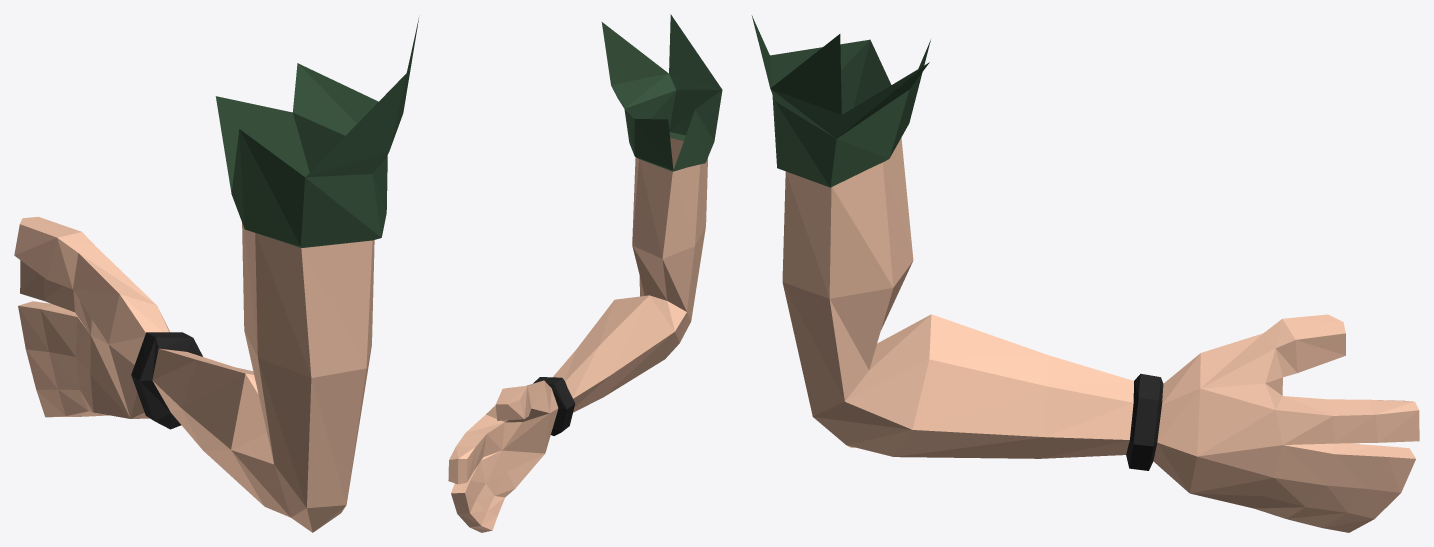
File: ShopKeeper_01_ArmR_82_01_A.obj
3 views of the same model, side by side, from view 1: azimuth 30°, elevation 25°; view 2: azimuth 150°, elevation 25°; view 3: azimuth 270°, elevation 25° (orthographic). The views are drawn at different scales.
Visible parts, largest first — view 1: ShopKeeper_01_ArmR_82_01_A; view 2: ShopKeeper_01_ArmR_82_01_A; view 3: ShopKeeper_01_ArmR_82_01_A.
Boxes of the visible parts, bbox=[...] form: ShopKeeper_01_ArmR_82_01_A: bbox=[14, 18, 418, 532]; ShopKeeper_01_ArmR_82_01_A: bbox=[448, 14, 722, 532]; ShopKeeper_01_ArmR_82_01_A: bbox=[751, 15, 1419, 532].
Size of the model in its own units: 0.1602 by 0.5274 by 0.5933.
Materials: 1 (1 with a texture image).
